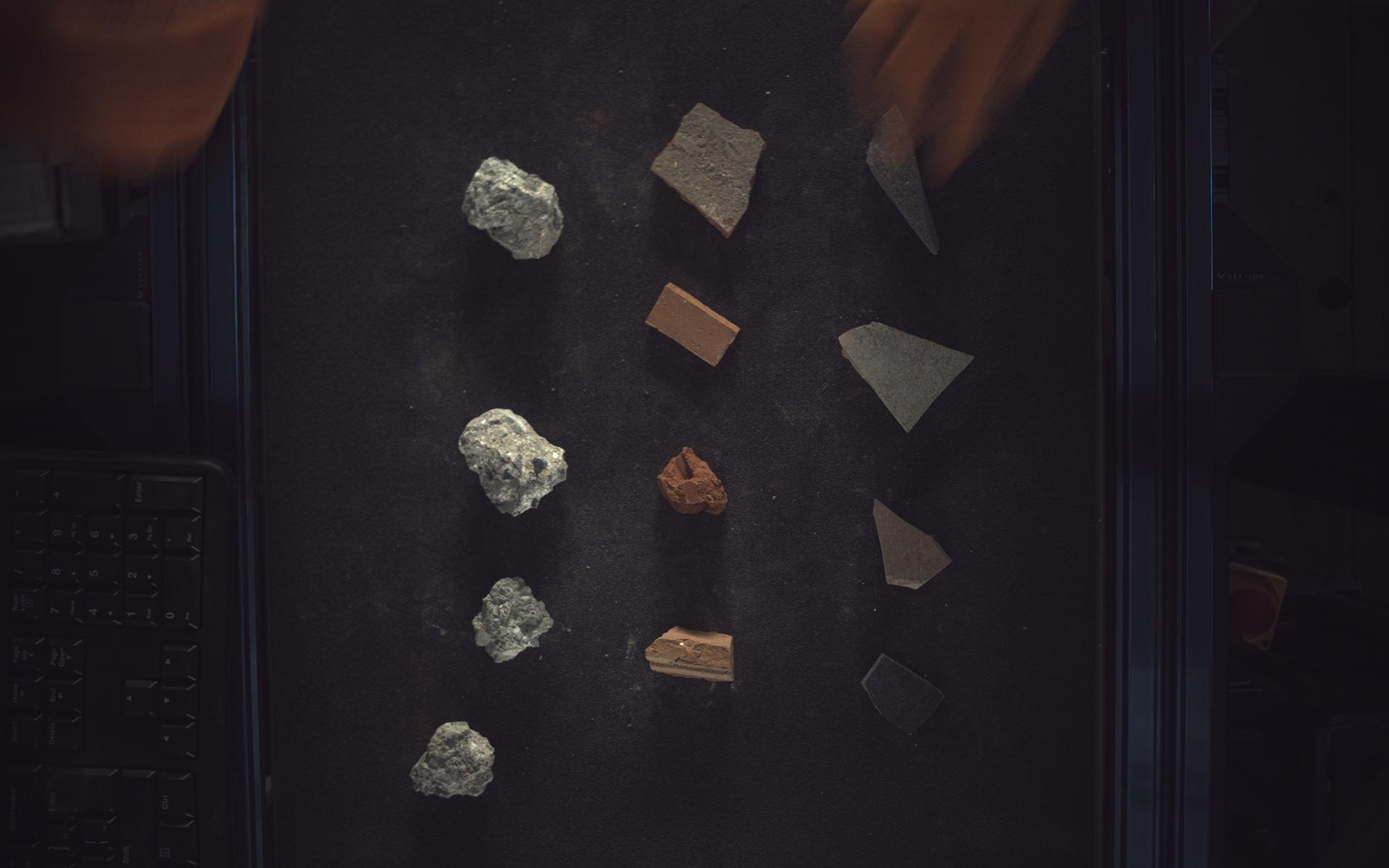brick: (652, 102, 767, 237), (646, 283, 742, 366), (646, 627, 736, 683), (658, 447, 728, 516)
concrete: (459, 409, 568, 516), (462, 156, 564, 259), (472, 578, 554, 664), (410, 723, 494, 799)
tile: (840, 322, 975, 432), (870, 150, 941, 255), (875, 500, 953, 590), (863, 655, 946, 735)
